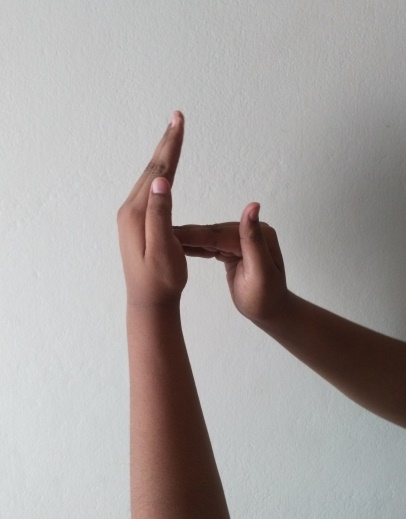ga: (115, 108, 289, 315)
